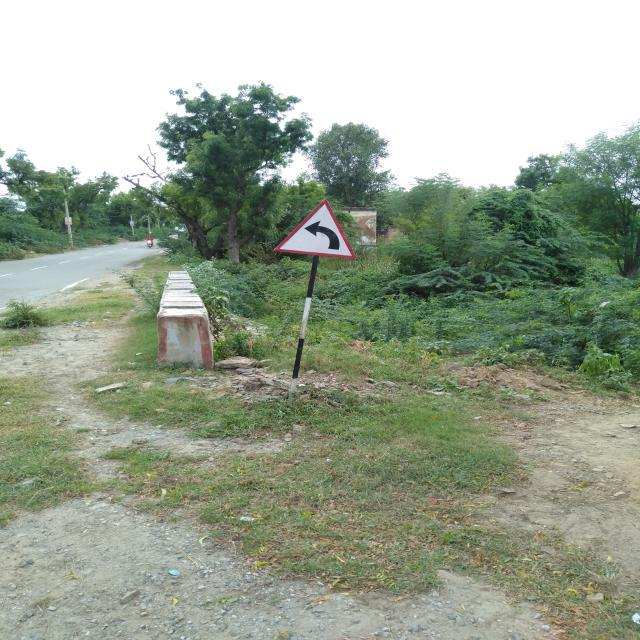left hand curve: (272, 198, 358, 260)
